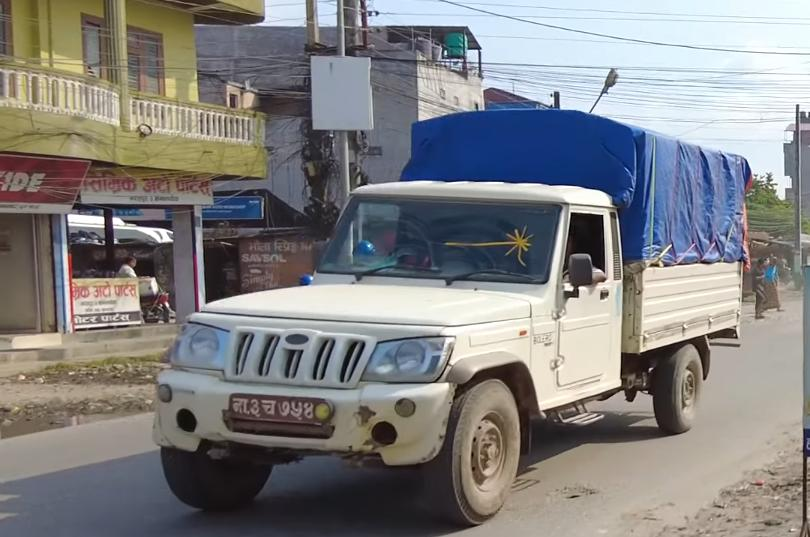transport_vehicle: (148, 98, 753, 537)
